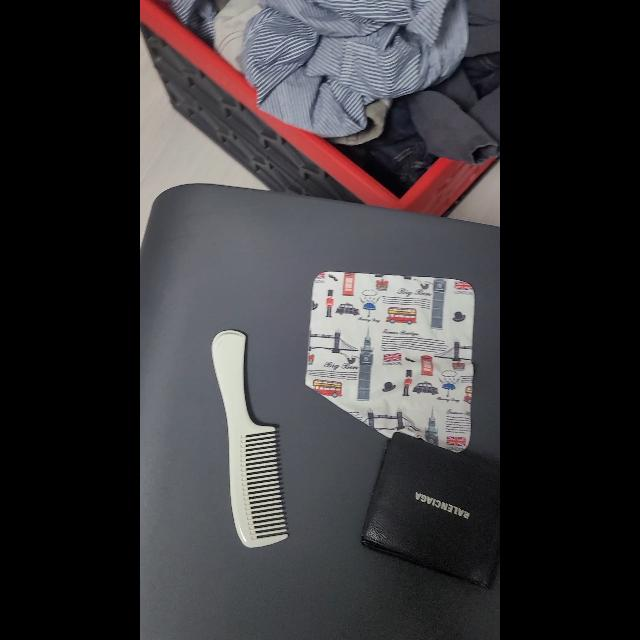COMB: (212, 331, 288, 547)
Glasses cleaning cloth: (306, 272, 476, 452)
WALLET: (360, 432, 500, 590)
